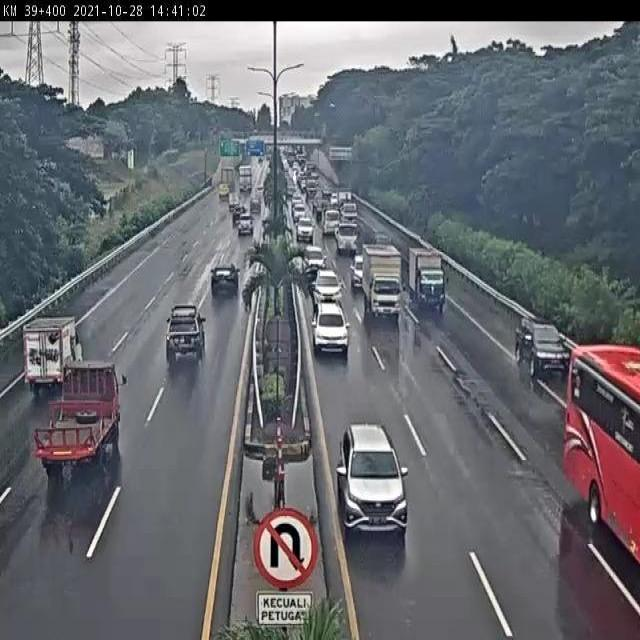car: (335, 421, 406, 539), (514, 316, 575, 380), (167, 306, 206, 366), (312, 303, 350, 356), (209, 260, 240, 297)
mid truck: (32, 361, 120, 480), (363, 241, 401, 319), (408, 245, 445, 308), (311, 267, 343, 305)
small truck: (24, 315, 86, 393)
